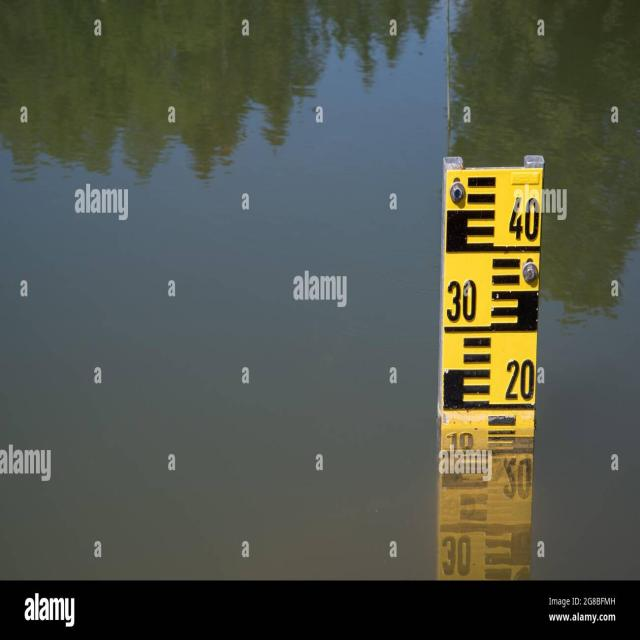ruler: (429, 134, 551, 442)
value: (499, 349, 539, 409), (503, 190, 543, 248), (444, 272, 481, 329)
